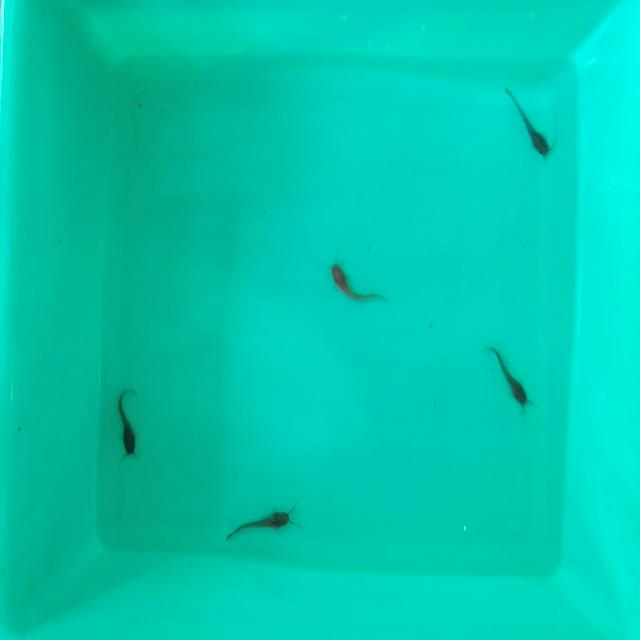lele: (503, 84, 553, 152), (487, 342, 529, 409), (224, 505, 291, 544), (327, 264, 387, 306), (118, 385, 138, 458)
